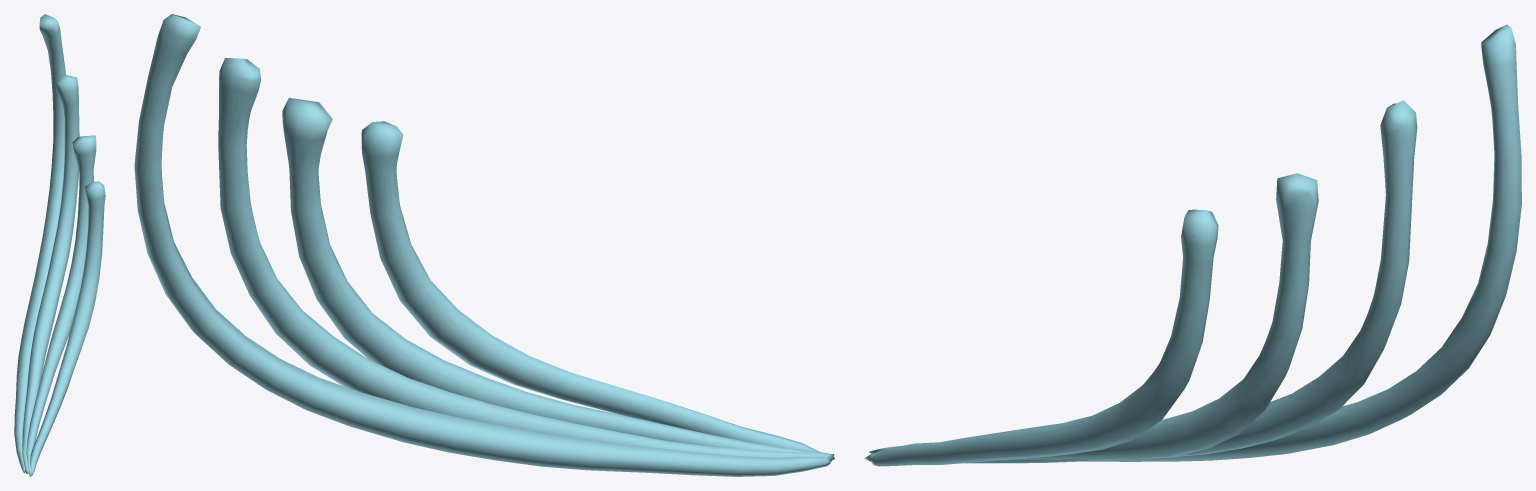
File: Costal Cartilage Left.fbx
The picture shows the model from 3 angles, left to right: view 1: azimuth 30°, elevation 25°; view 2: azimuth 150°, elevation 25°; view 3: azimuth 270°, elevation 25°; orthographic projection. The views are drawn at different scales.
Visible parts, largest first — view 1: Costal Cartilage Left low, Costal Cartilage Left; view 2: Costal Cartilage Left low, Costal Cartilage Left; view 3: Costal Cartilage Left low, Costal Cartilage Left.
Part boxes in pixels (<box>): Costal Cartilage Left low: <box>14,14,105,476</box>; Costal Cartilage Left: <box>17,21,103,471</box>; Costal Cartilage Left low: <box>134,14,835,476</box>; Costal Cartilage Left: <box>139,48,824,472</box>; Costal Cartilage Left low: <box>864,24,1521,466</box>; Costal Cartilage Left: <box>869,34,1518,464</box>.
Bounding box in the file's own units: 3.85 × 5.61 × 5.51.
